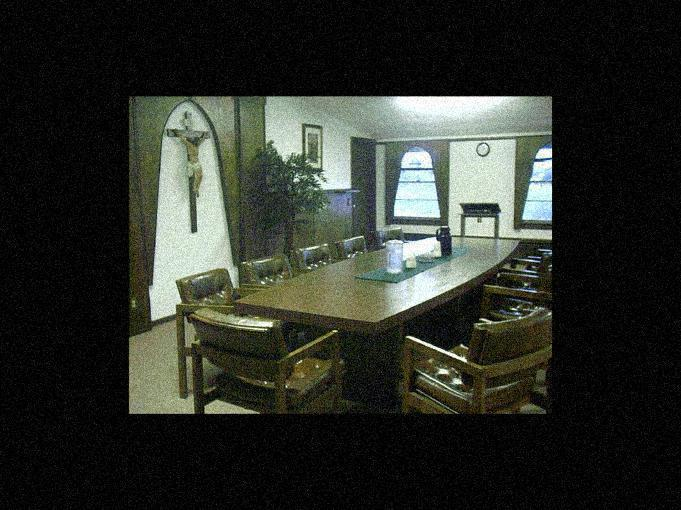Otro Obstaculo: (460, 195, 502, 239)
